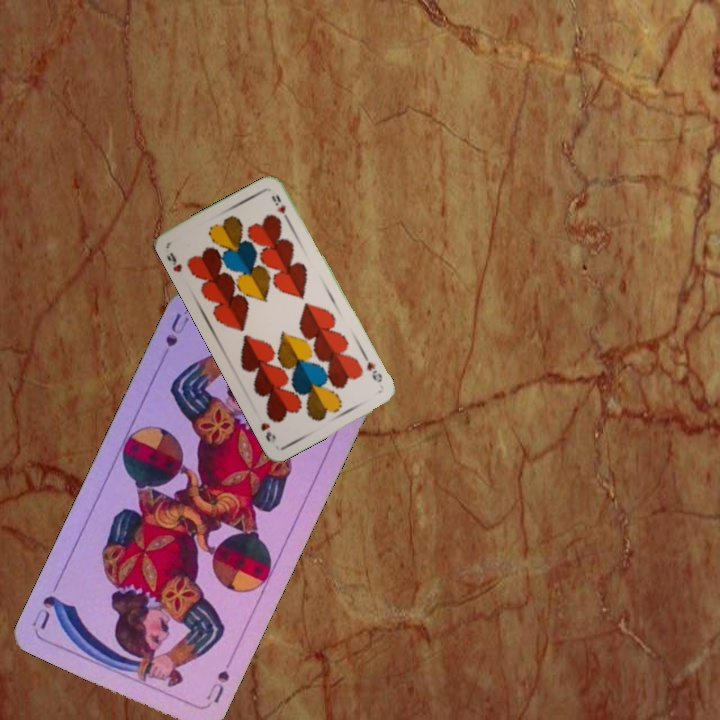H9: (162, 248, 185, 275), (362, 358, 385, 385)
SU: (155, 309, 192, 366), (202, 666, 232, 706)
